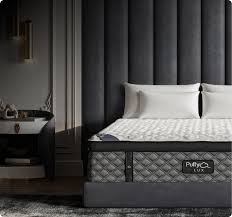bed-matress: (88, 113, 232, 184)
